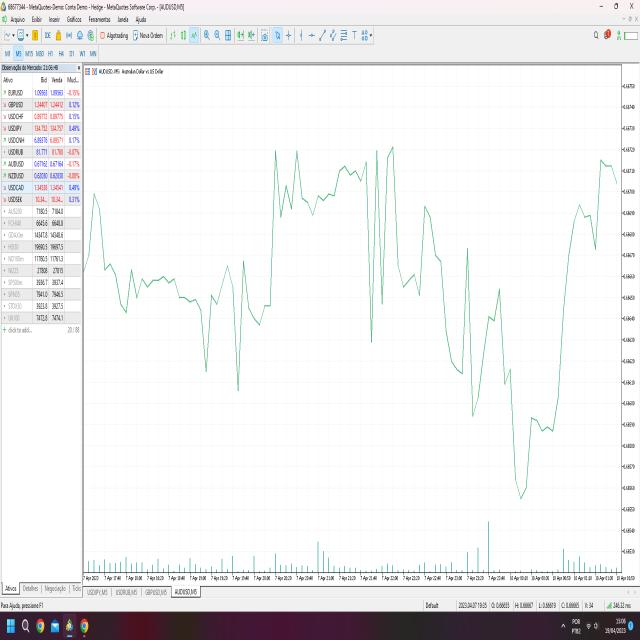topo_duplo: (262, 126, 310, 252)
